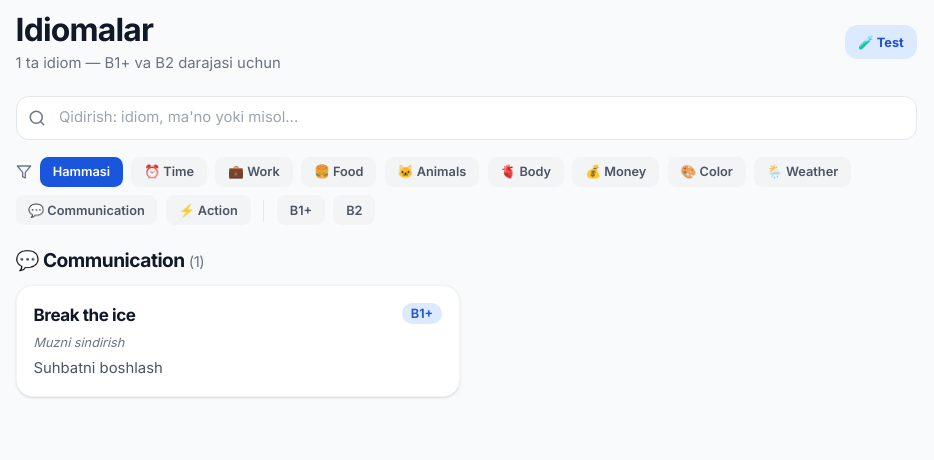
Scenario: Idioms › filters by level
Note: Click B2 — 'Break the ice' is B1+, so it should disappear
What coordinates should you click on to do the following:
click the button "B2"
I would click on:
 (354, 210)
Its box is [333,195,375,225].
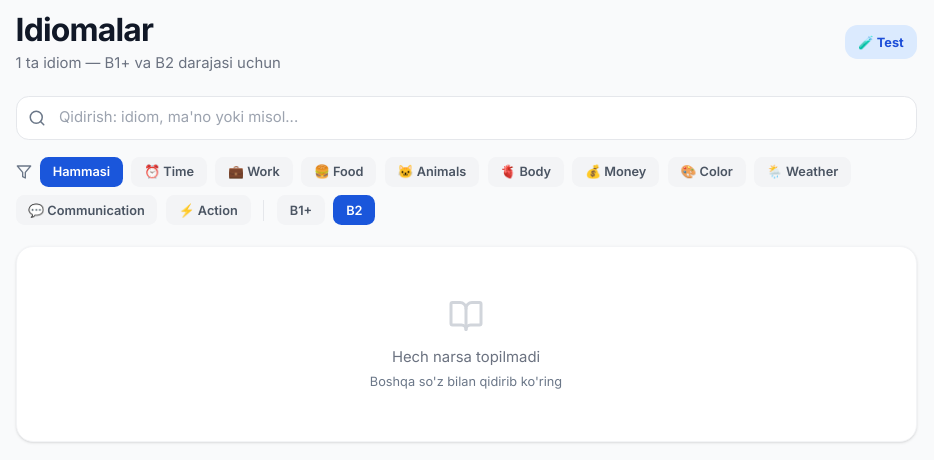
Result: the button "Break the ice" is gone
